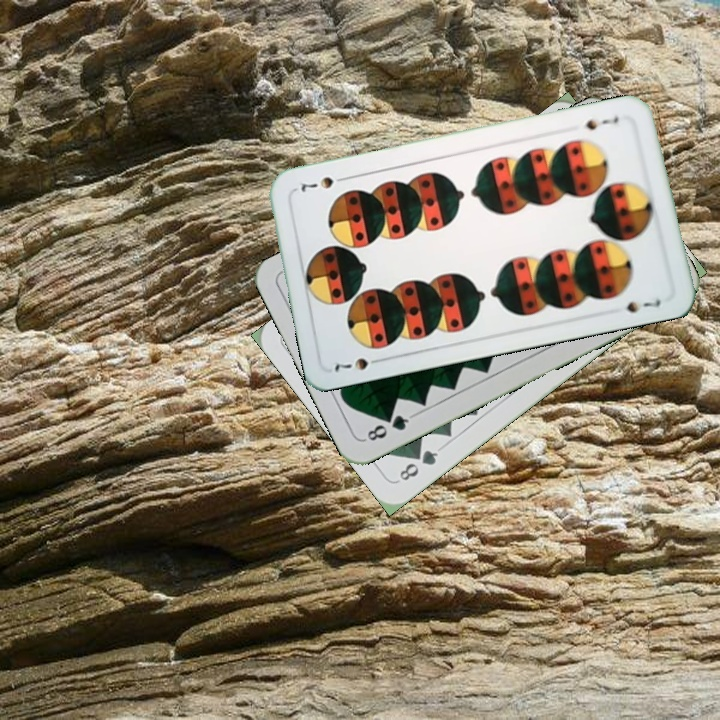G8: (360, 410, 416, 444), (395, 445, 441, 484)
S7: (330, 353, 387, 375), (579, 111, 621, 133)
